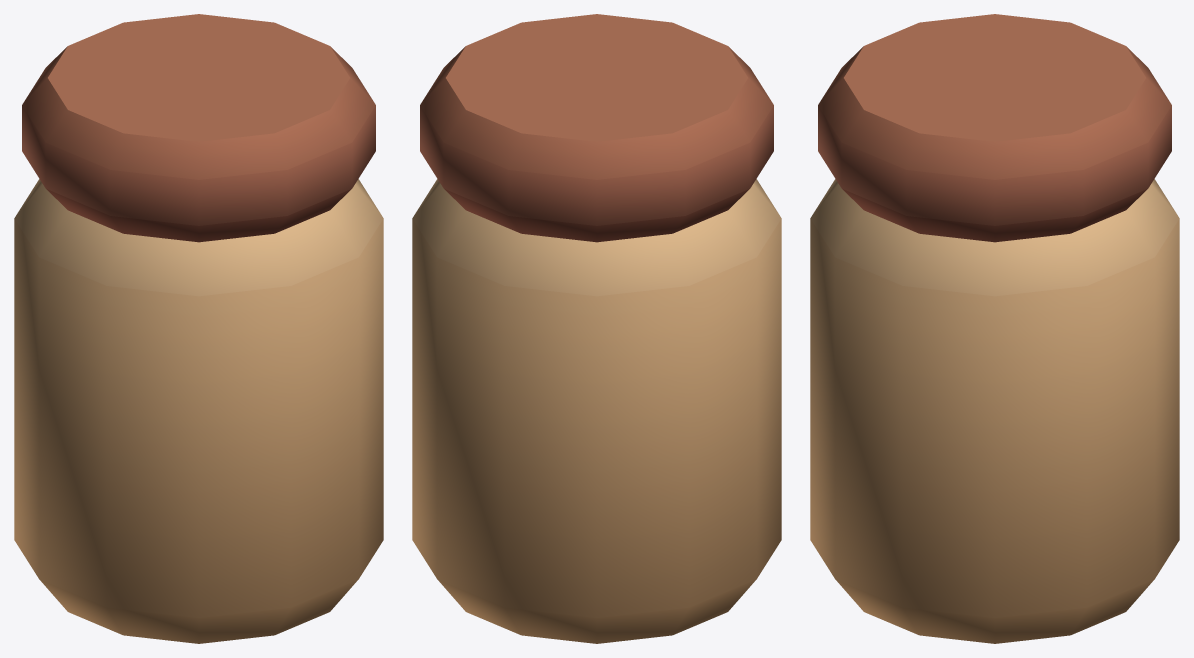
Rendered from jar-c-large.glb.
3 renders of one model, left to right at view 1: azimuth 30°, elevation 25°; view 2: azimuth 150°, elevation 25°; view 3: azimuth 270°, elevation 25°, orthographic.
Parts seen in each view (by area): view 1: jar_C_large; view 2: jar_C_large; view 3: jar_C_large.
Part boxes in pixels (x1,y1,x2,y2): jar_C_large: (14,14,383,643); jar_C_large: (412,14,781,643); jar_C_large: (810,14,1179,643).
Bounding box in the file's own units: 0.5 × 0.75 × 0.5.
1 material, 1 textured.
